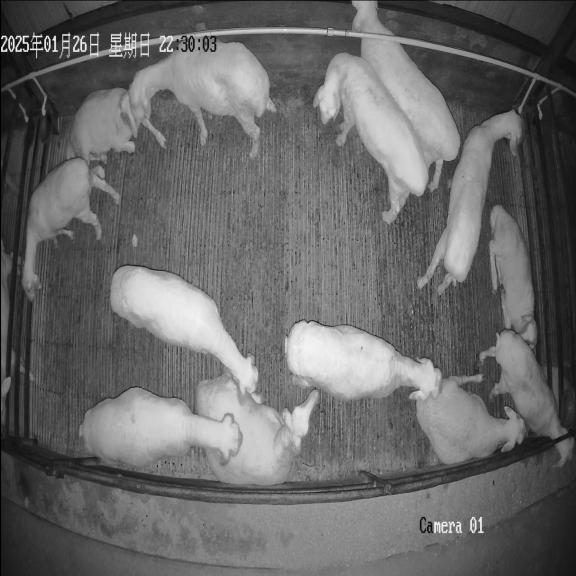drinking: (417, 110, 523, 294)
eating: (479, 329, 574, 466)
lying: (197, 374, 319, 485), (410, 374, 527, 464), (66, 88, 166, 162), (489, 205, 537, 348)
stand: (352, 0, 460, 191), (313, 52, 428, 223), (110, 265, 258, 394), (129, 41, 276, 158), (21, 157, 120, 301), (79, 387, 243, 467), (285, 320, 443, 400)
